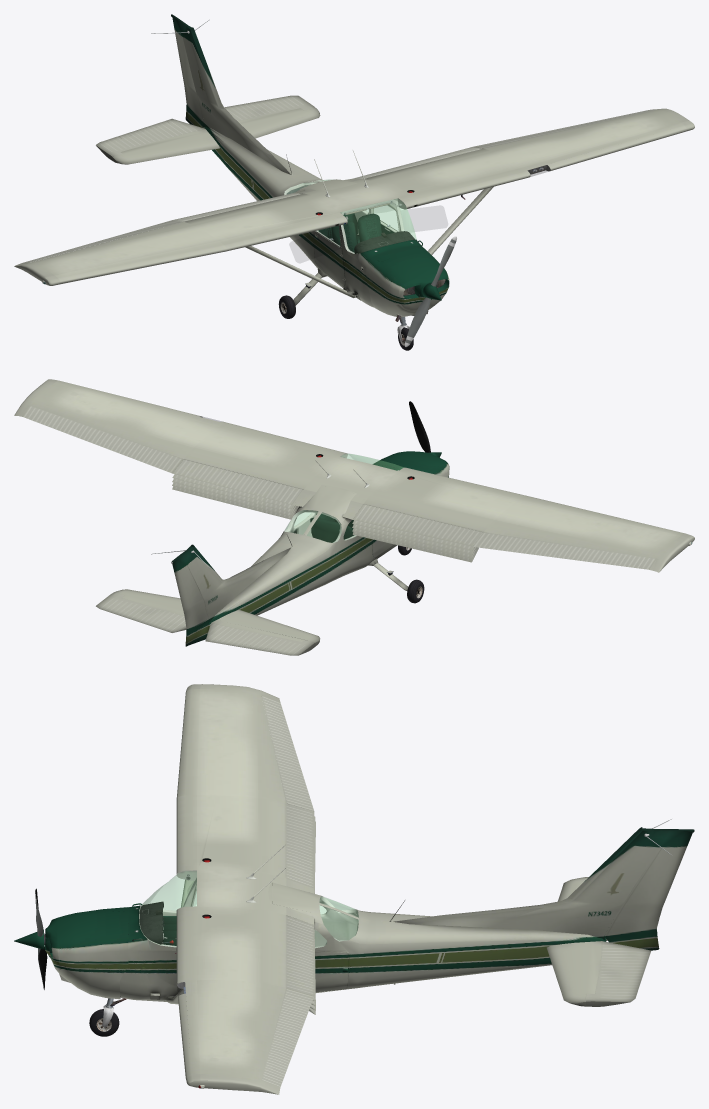
File: N73429_HD_livery.gltf
3 renders of one model, top to bottom at view 1: azimuth 30°, elevation 25°; view 2: azimuth 150°, elevation 25°; view 3: azimuth 270°, elevation 25°, orthographic. The views are drawn at different scales.
Parts seen in each view (by area): view 1: Exterior, Pose_flaps_0; view 2: Exterior, Pose_flaps_0, Pose_flaps_1, Pose_flaps_2, Pose_flaps_3, Pose_flaps_4; view 3: Exterior, Pose_flaps_0.
Boxes of the visible parts, x1=… form: Exterior: x1=14, y1=14, x2=694, y2=350; Pose_flaps_0: x1=173, y1=147, x2=482, y2=221; Exterior: x1=14, y1=379, x2=694, y2=655; Pose_flaps_0: x1=173, y1=459, x2=483, y2=546; Pose_flaps_1: x1=172, y1=474, x2=474, y2=550; Pose_flaps_2: x1=172, y1=478, x2=476, y2=554; Pose_flaps_3: x1=172, y1=482, x2=476, y2=558; Pose_flaps_4: x1=172, y1=486, x2=478, y2=562; Exterior: x1=14, y1=684, x2=694, y2=1094; Pose_flaps_0: x1=286, y1=803, x2=314, y2=995.
Size of the model in its own units: 11.32 by 2.77 by 8.17.
Materials: 145 (135 with a texture image).
